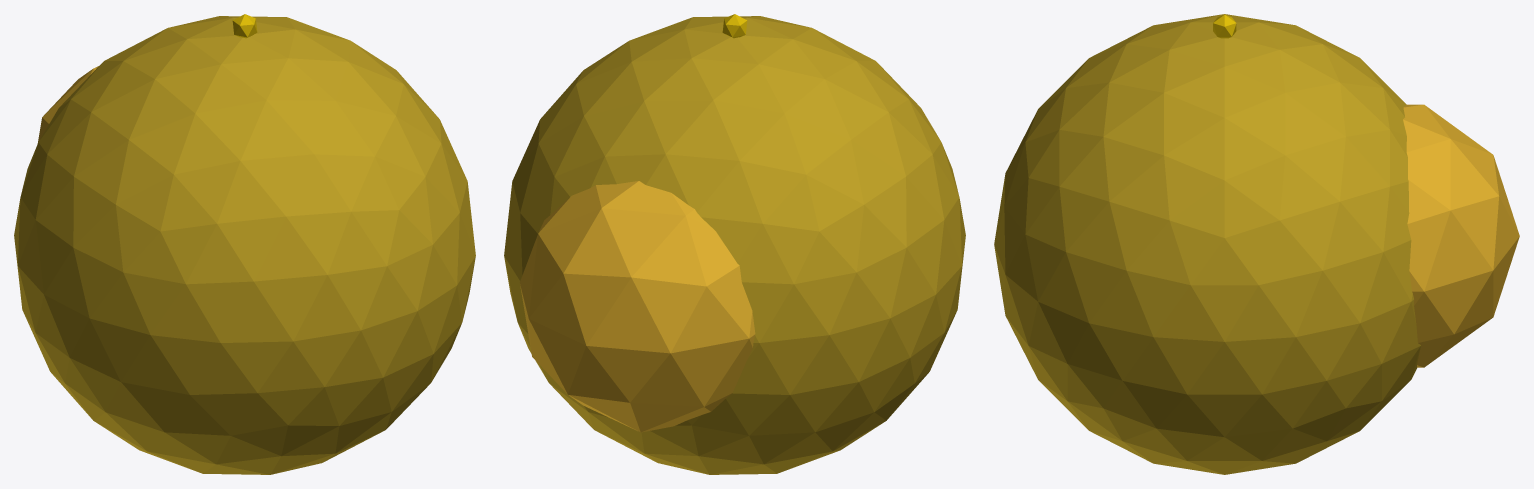
File: soviet_head.glb
3 renders of one model, left to right at view 1: azimuth 30°, elevation 25°; view 2: azimuth 150°, elevation 25°; view 3: azimuth 270°, elevation 25°, orthographic.
Visible parts, largest first — view 1: soviet_head; view 2: soviet_head; view 3: soviet_head.
Part boxes in pixels (x1,y1,x2,y2): soviet_head: (14, 14, 475, 474); soviet_head: (504, 14, 965, 474); soviet_head: (994, 14, 1519, 474).
Bounding box in the file's own units: 1 × 1.05 × 1.14.
